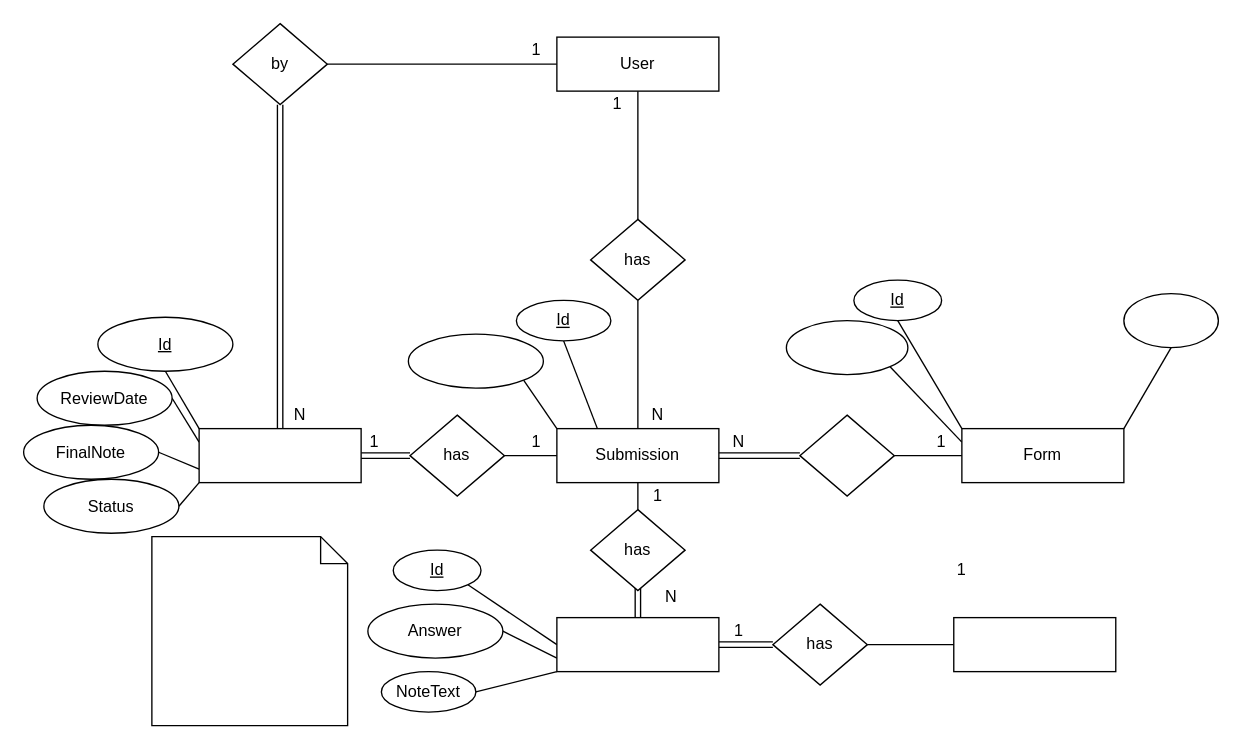
Some shapes in this 1242 by 749 pixel diagram are drawn without their labels. The centre of each missing label's shape, as x and y in pixels:
"AnsweredQuestion" goes at (x=637, y=644).
"CreatedAt" goes at (x=846, y=347).
"Language" goes at (x=1170, y=320).
"NoteText only exists if a Review exists for that Submission" goes at (x=249, y=630).
"Question" goes at (x=1034, y=644).
"refer" goes at (x=846, y=455).
"Review" goes at (x=279, y=455).
"SubmissionDate" goes at (x=475, y=360).
